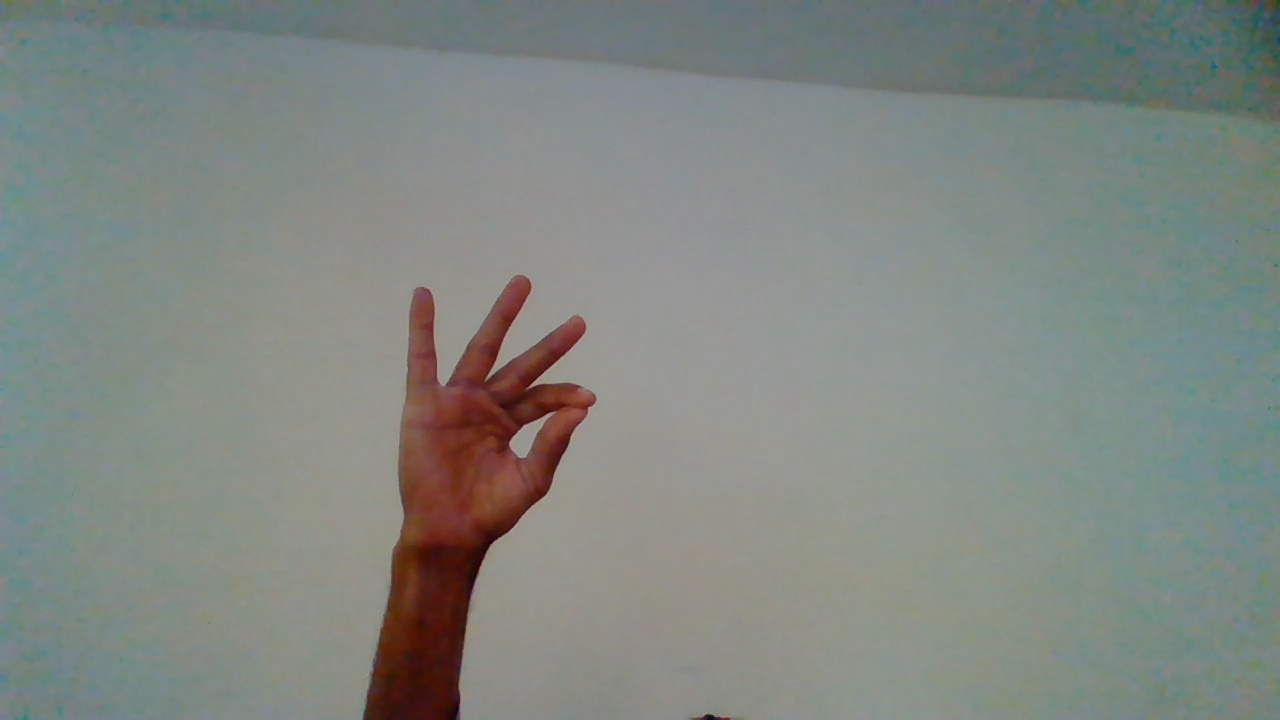le: (400, 276, 603, 635)
